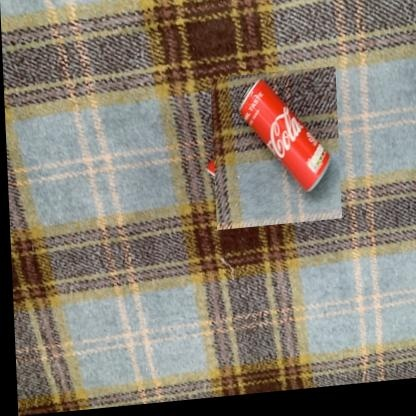trash: (240, 80, 329, 190)
